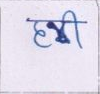i_matra: (66, 10, 83, 49)
